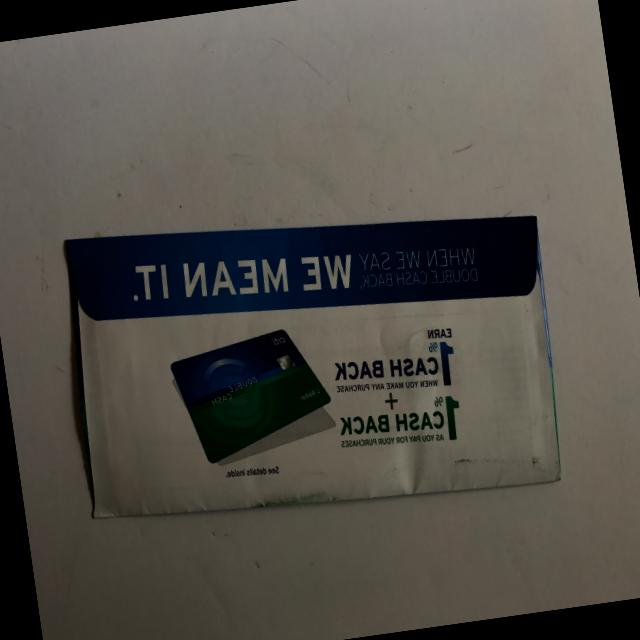Paper: (58, 180, 576, 548)
